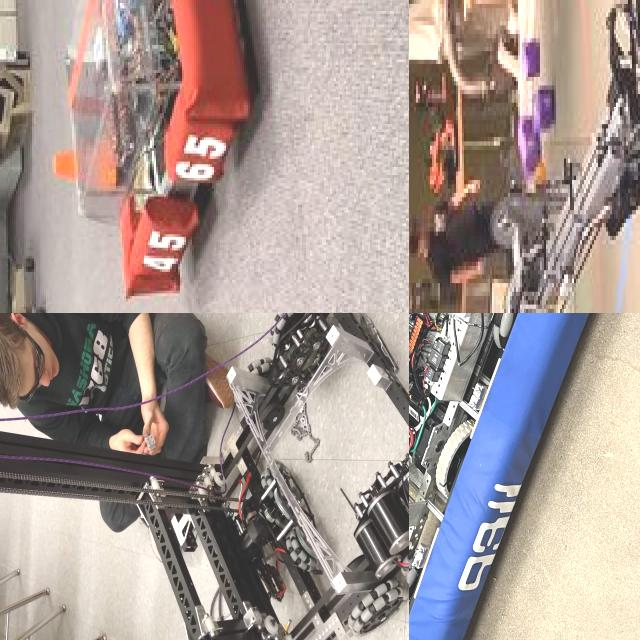FRC-Robots: (0, 313, 409, 640), (409, 313, 633, 640), (409, 0, 640, 313), (40, 0, 256, 306)
